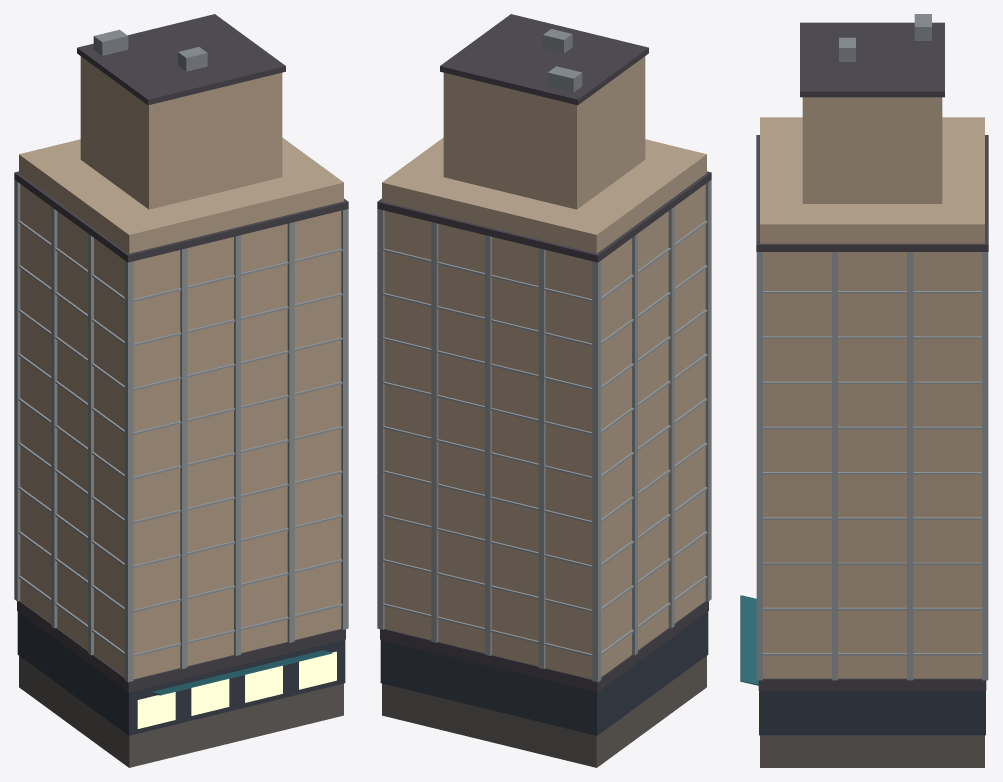
The model's file is building_3.glb.
3 renders of one model, left to right at view 1: azimuth 30°, elevation 25°; view 2: azimuth 150°, elevation 25°; view 3: azimuth 270°, elevation 25°, orthographic.
Visible parts, largest first — view 1: building; view 2: building; view 3: building.
Boxes of the visible parts, bbox=[...] form: building: bbox=[14, 14, 348, 767]; building: bbox=[377, 14, 711, 767]; building: bbox=[740, 14, 988, 767].
Bounding box in the file's own units: 18.5 × 52.68 × 17.64.
